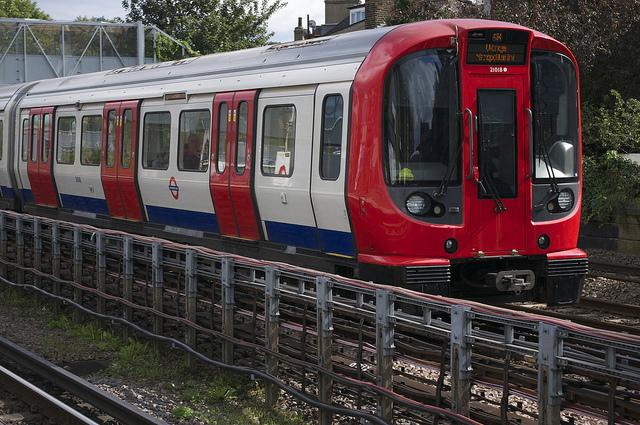Train: (1, 25, 590, 289)
